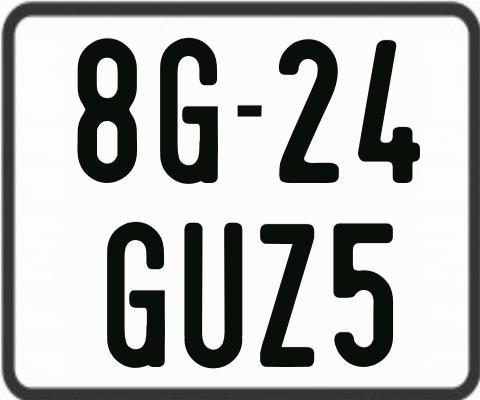2: (276, 36, 338, 183)
4: (357, 37, 419, 182)
5: (331, 220, 397, 370)
8: (74, 35, 135, 184)
G: (157, 35, 218, 183), (107, 220, 166, 372)
U: (182, 221, 245, 372)
Z: (260, 221, 314, 369)
